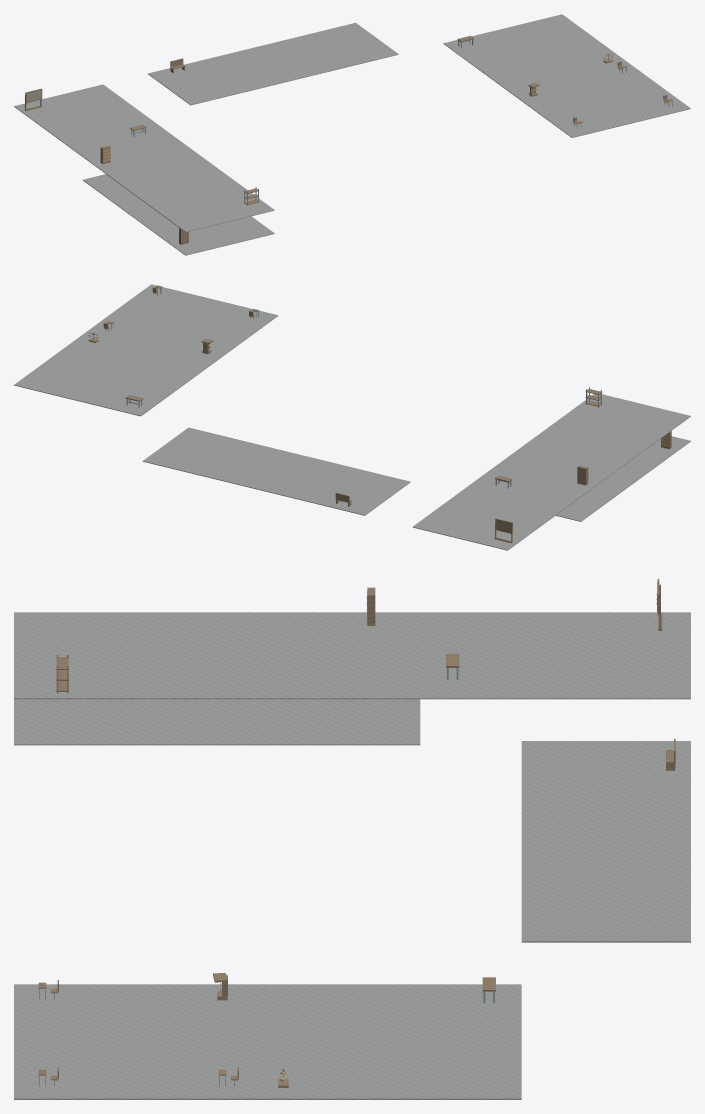
Rendered from academy.glb.
3 renders of one model, top to bottom at view 1: azimuth 30°, elevation 25°; view 2: azimuth 150°, elevation 25°; view 3: azimuth 270°, elevation 25°, orthographic. The views are drawn at different scales.
Parts seen in each view (by area): view 1: review_fit_academy; view 2: review_fit_academy; view 3: review_fit_academy.
Boxes of the visible parts, box(x1,y1,x2,y2) form: review_fit_academy: box(14, 14, 690, 255); review_fit_academy: box(14, 284, 690, 550); review_fit_academy: box(14, 579, 690, 1099).
Size of the model in its own units: 68 by 5.47 by 40.
5 materials, 5 textured.
